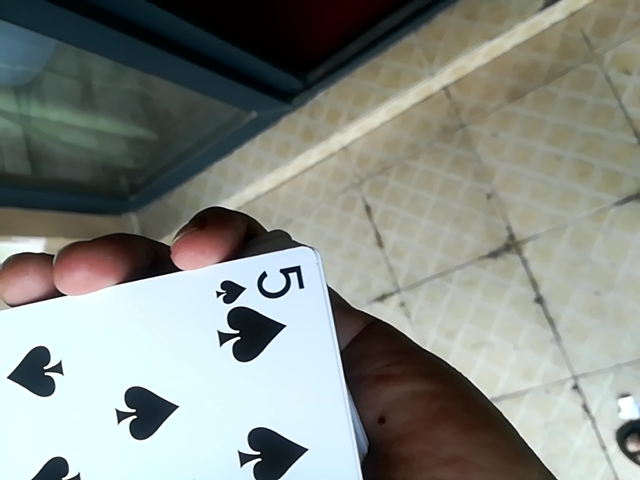ht 5: (1, 237, 380, 480)
